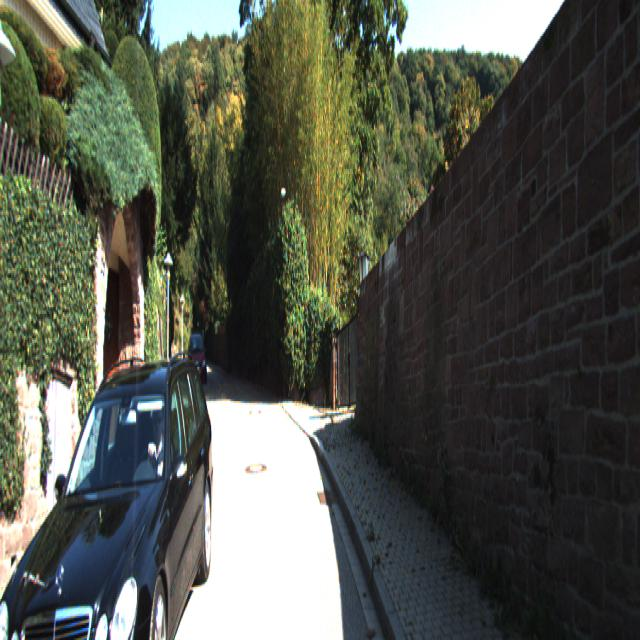Car: (0, 342, 215, 639), (187, 331, 207, 389)
